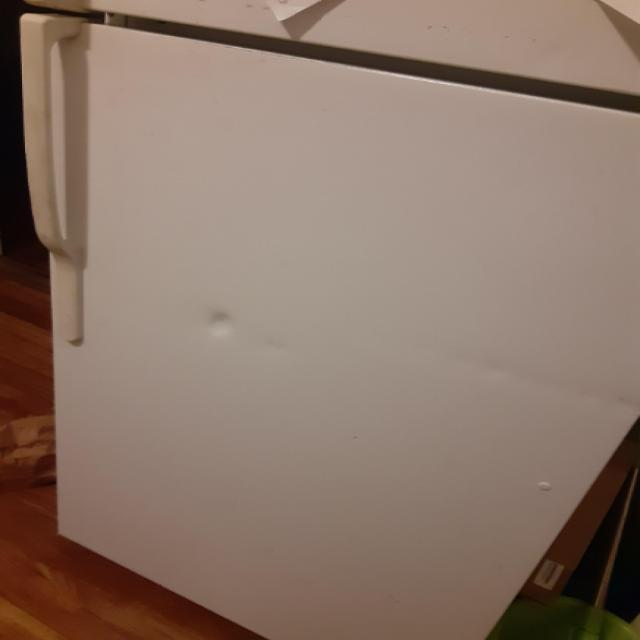dents: (165, 300, 267, 368)
